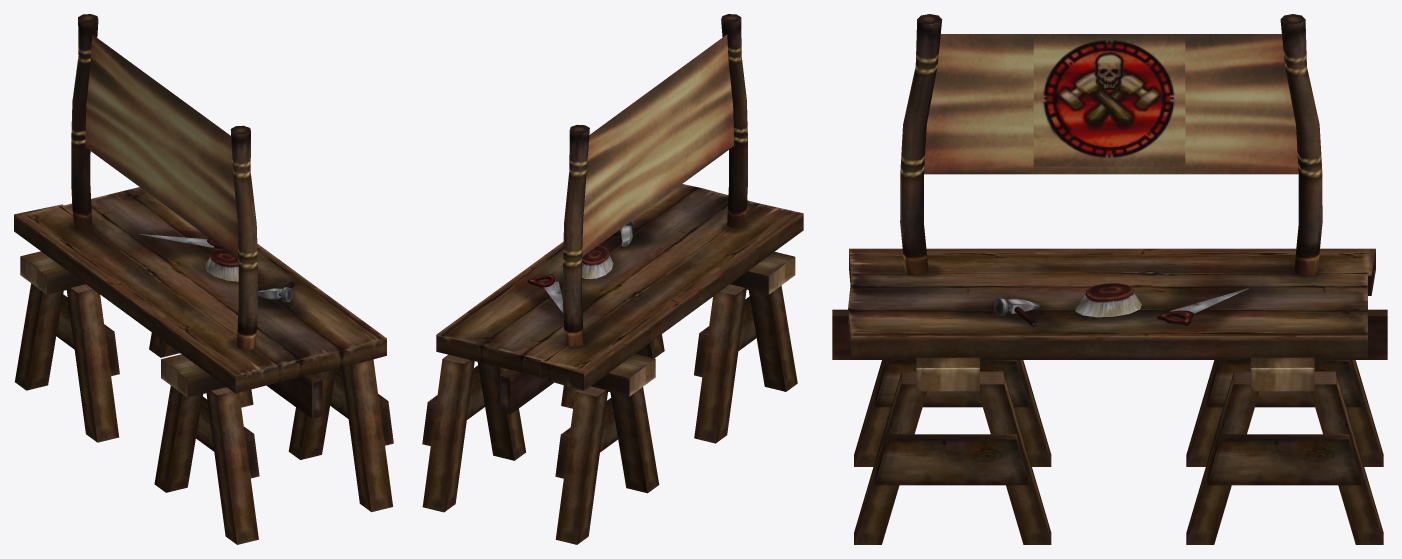
Rendered from pir_m_gam_srp_repairBenchMaster.fbx.
3 views of the same model, side by side, from view 1: azimuth 30°, elevation 25°; view 2: azimuth 150°, elevation 25°; view 3: azimuth 270°, elevation 25° (orthographic). The views are drawn at different scales.
Parts seen in each view (by area): view 1: tableTop, signMesh, pCube2.002, pCube2.001, pCube2, signPole_L, signPole_R, pCube3.002, pCube3.001, pCube3, crossBar2, crossBar1 (+5 smaller); view 2: tableTop, signMesh, pCube3.002, pCube3.001, pCube3.003, signPole_R, signPole_L, pCube2.001, pCube2.002, pCube2.003, crossBar1, crossBar2 (+6 smaller); view 3: tableTop, signMesh, sign.001, pCube6.003, pCube6, signPole_R, signPole_L, pCube3, pCube3.003, pCube2.003, pCube2, pCube6.002 (+11 smaller).
Boxes of the visible parts, box(x1,y1,x2,y2) form: tableTop: box(14, 187, 386, 393); signMesh: box(85, 34, 238, 258); pCube2.002: box(66, 284, 119, 442); pCube2.001: box(206, 387, 258, 544); pCube2: box(341, 359, 392, 512); signPole_L: box(230, 125, 257, 349); signPole_R: box(71, 14, 98, 230); pCube3.002: box(15, 283, 63, 390); pCube3.001: box(154, 385, 203, 492); pCube3: box(288, 369, 335, 459); crossBar2: box(20, 251, 85, 294); crossBar1: box(161, 354, 225, 397); tableTop: box(436, 184, 803, 390); signMesh: box(582, 34, 734, 256); pCube3.002: box(555, 386, 607, 544); pCube3.001: box(694, 284, 746, 443); pCube3.003: box(422, 354, 474, 512); signPole_R: box(563, 124, 589, 347); signPole_L: box(721, 14, 747, 228); pCube2.001: box(748, 285, 797, 391); pCube2.002: box(610, 387, 659, 493); pCube2.003: box(477, 362, 525, 460); crossBar1: box(730, 251, 795, 294); crossBar2: box(591, 353, 655, 396); tableTop: box(848, 248, 1375, 357); signMesh: box(924, 34, 1298, 174); sign.001: box(1033, 35, 1185, 166); pCube6.003: box(1207, 434, 1362, 485); pCube6: box(874, 434, 1029, 485); signPole_R: box(1280, 14, 1322, 276); signPole_L: box(900, 14, 942, 276); pCube3: box(978, 371, 1051, 544); pCube3.003: box(1310, 371, 1383, 544); pCube2.003: box(1186, 371, 1259, 544); pCube2: box(854, 371, 927, 544); pCube6.002: box(1207, 360, 1362, 407).
Bounding box in the file's own units: 343 × 664 × 733.
2 materials, 2 textured.
